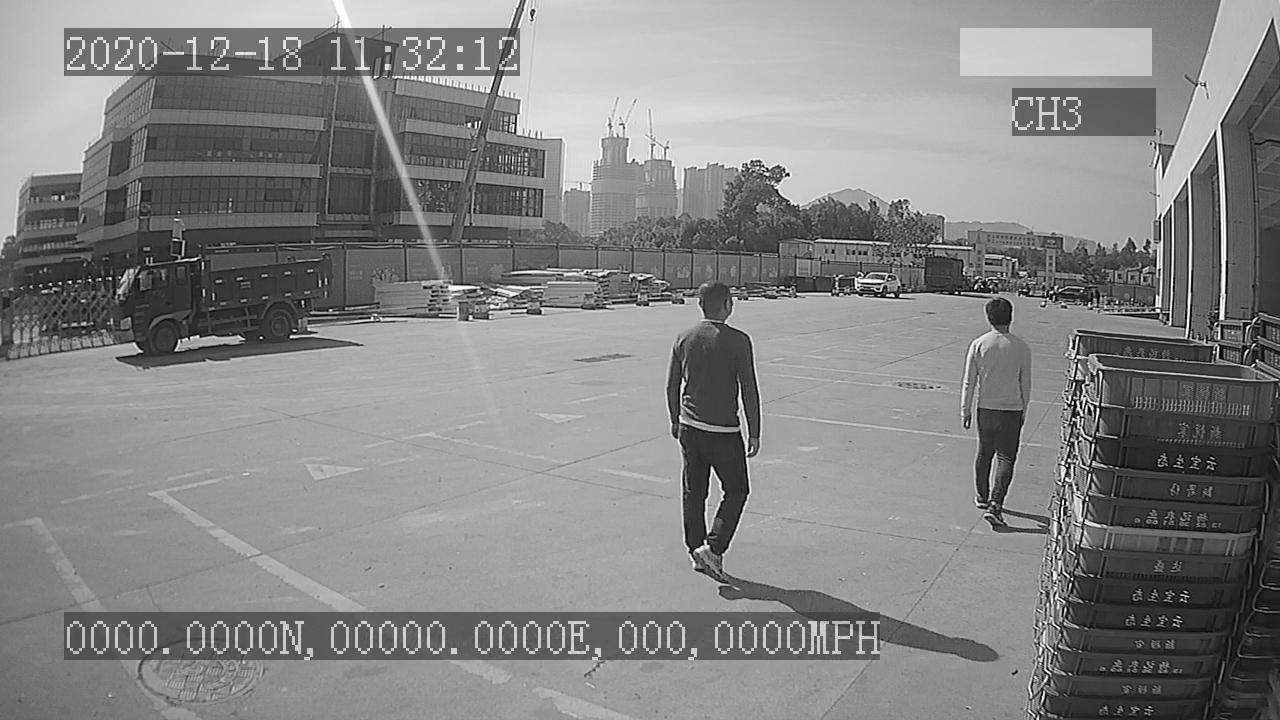person: (664, 278, 763, 580), (956, 295, 1035, 531)
